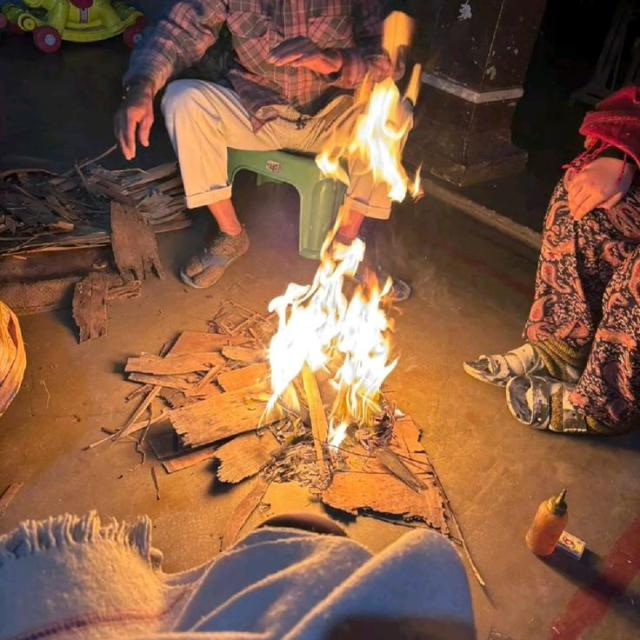fire: (266, 210, 399, 454), (316, 74, 421, 202)
